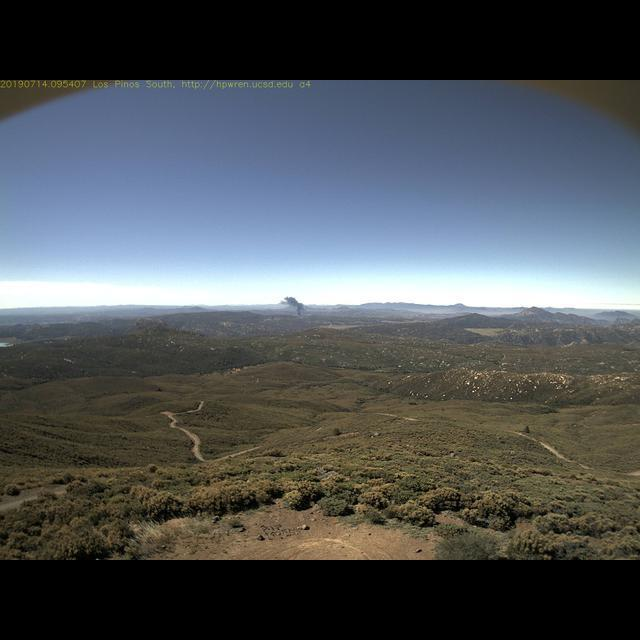Smoke: (277, 292, 306, 321)
